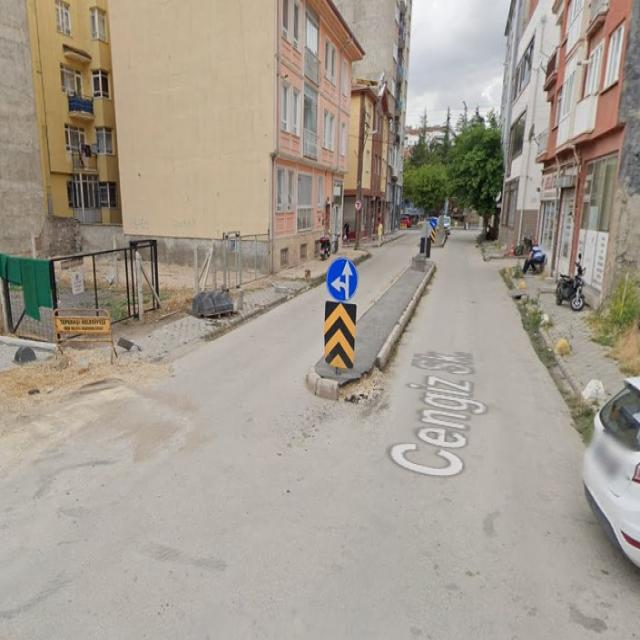ilerisol: (326, 258, 358, 300)
soladonulmez: (355, 201, 362, 209)
